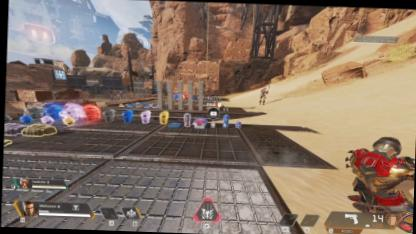Target: (349, 133, 415, 213), (258, 86, 268, 104)
